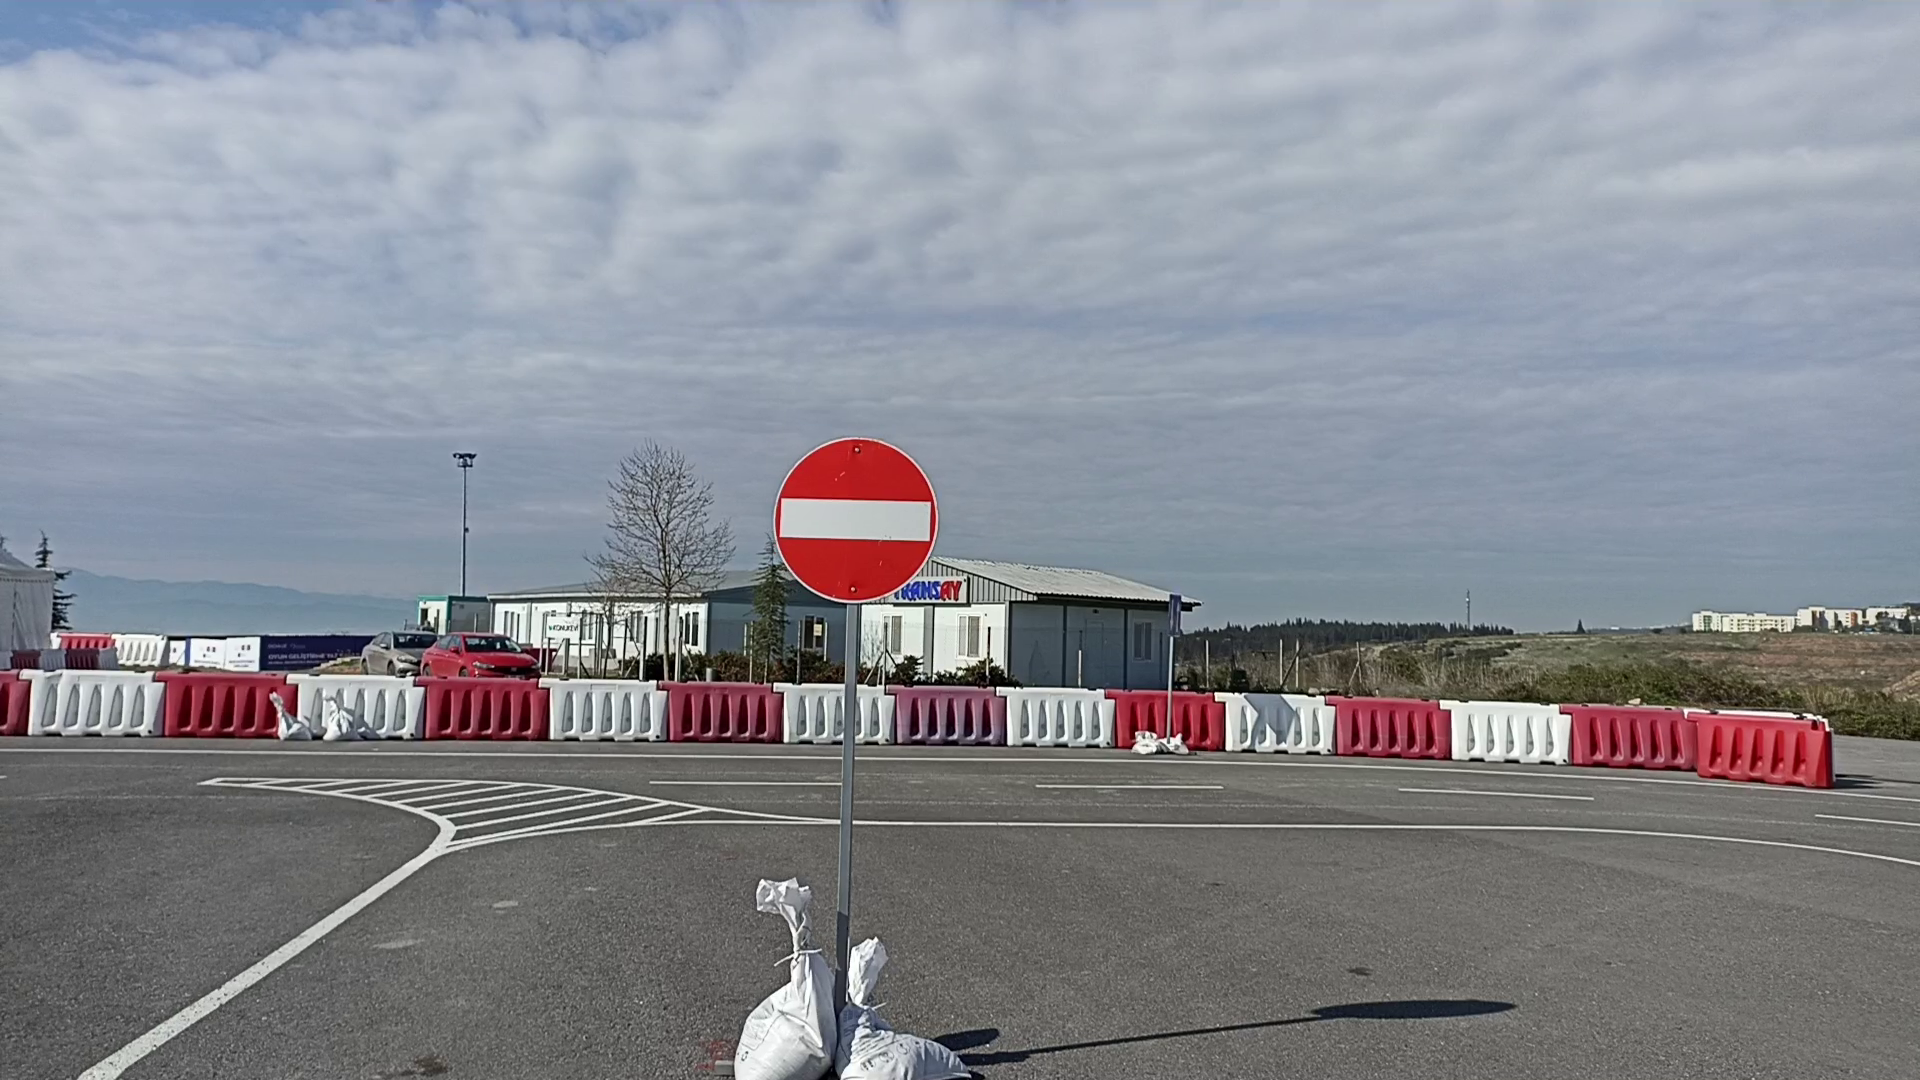noentryway: (770, 430, 943, 607)
